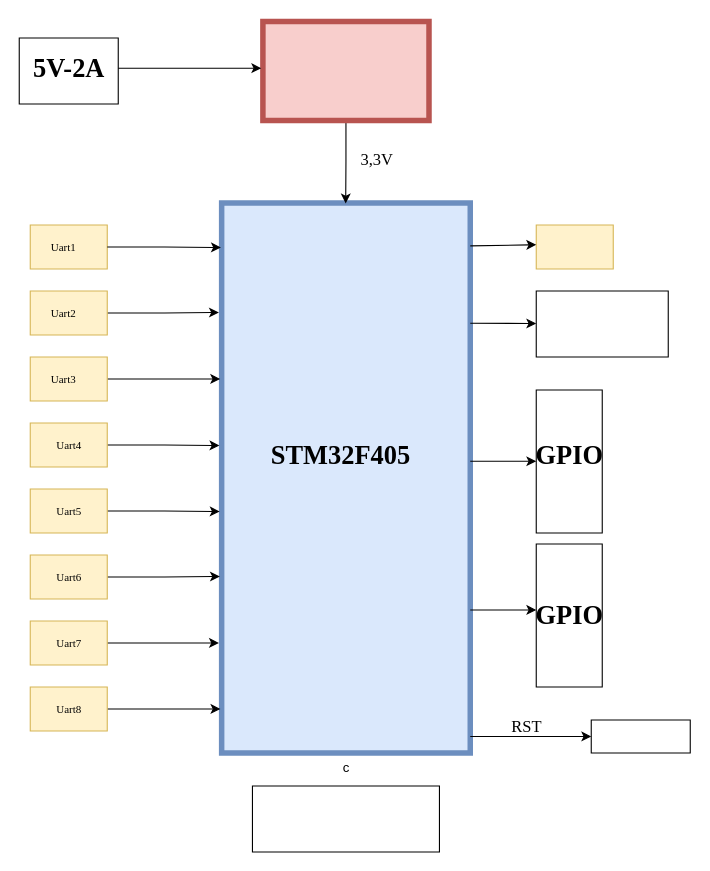
The diagram is 710 pixels wide and 871 high, and some of its shapes have lost their labels. Each missing label, with the centre of its shape:
button: (640,736)
LCD: (345,818)
Led DBG: (601,323)
Power Supply: (345,70)
Uart9: (574,246)
